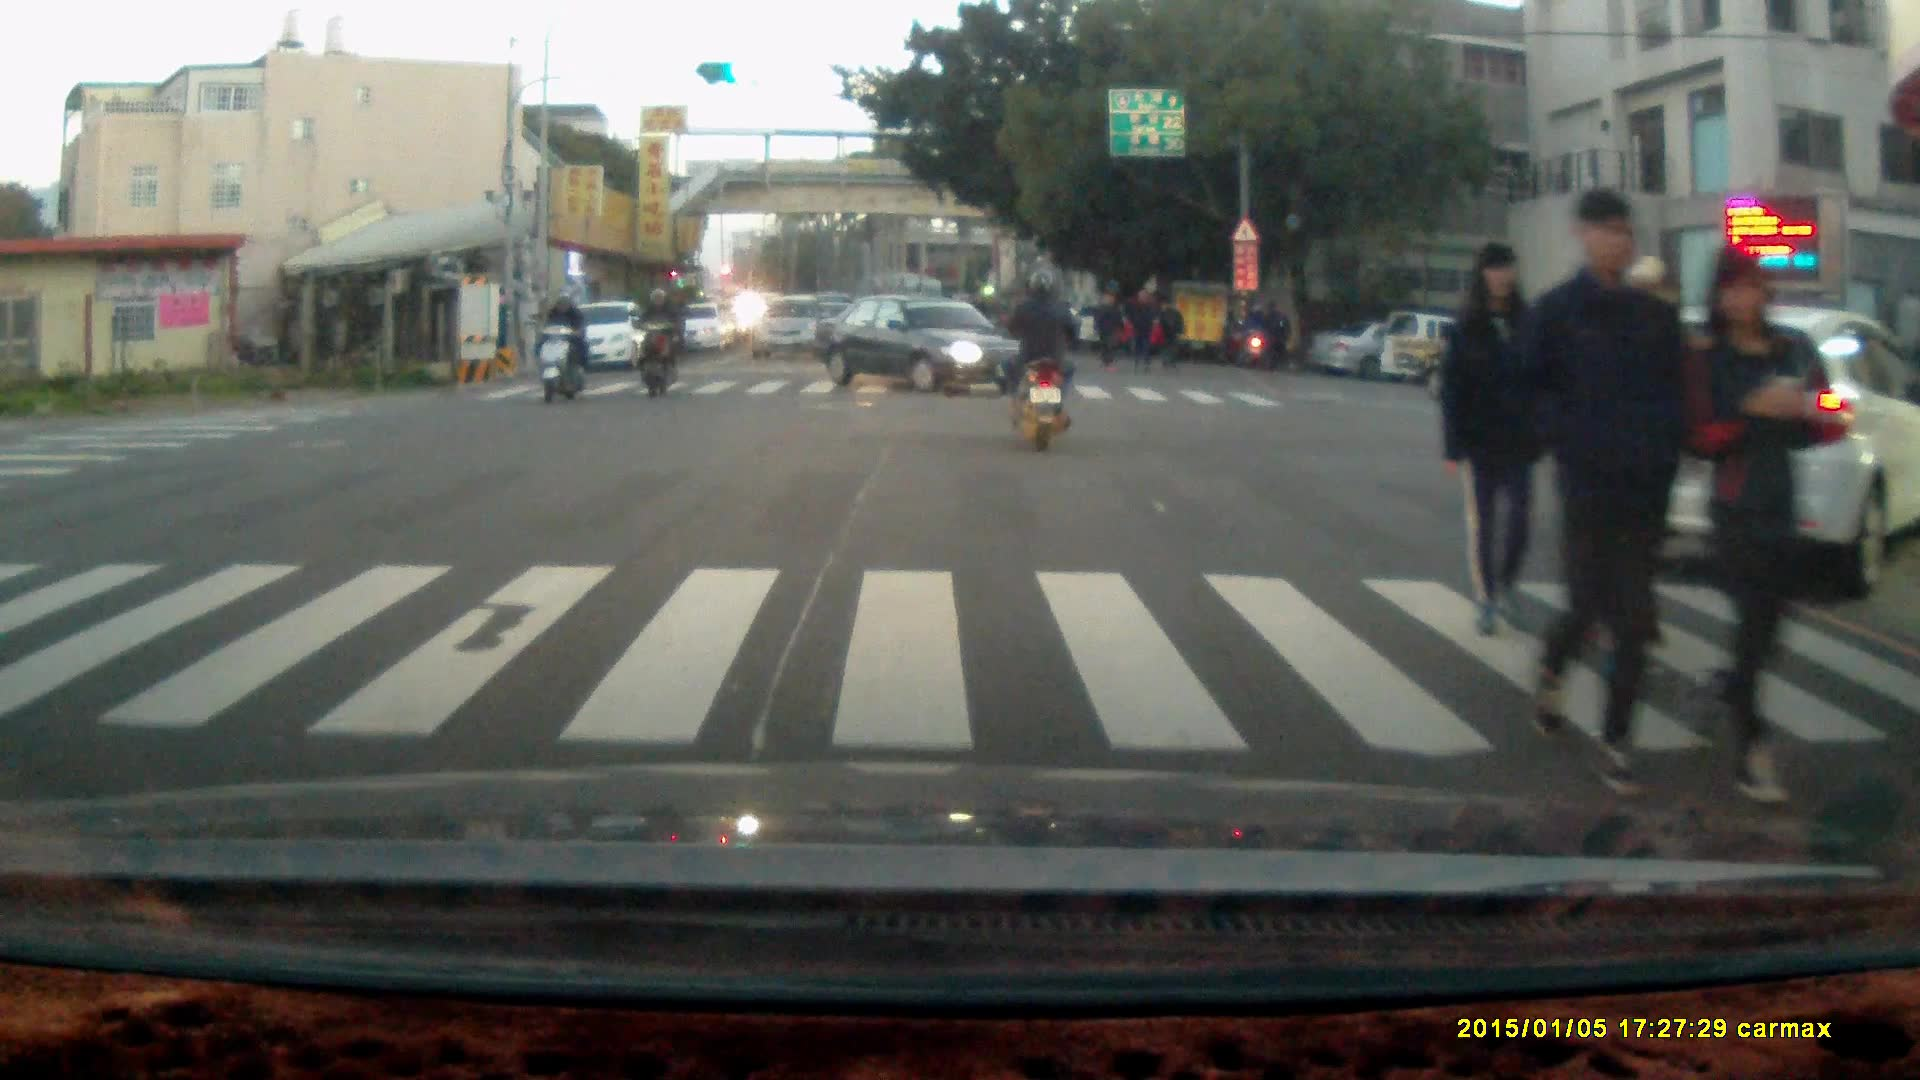pedestrian: (1510, 180, 1690, 800), (1682, 240, 1823, 807), (1438, 239, 1565, 645), (1124, 284, 1155, 377), (1151, 292, 1183, 376), (1092, 290, 1122, 372), (1257, 294, 1288, 371)
rider: (1005, 264, 1080, 451), (533, 282, 589, 403), (628, 281, 684, 397), (1231, 301, 1270, 366)
vehicle: (1608, 315, 1920, 608), (808, 288, 1047, 395), (1310, 312, 1479, 384), (553, 300, 658, 371), (748, 296, 831, 364)
